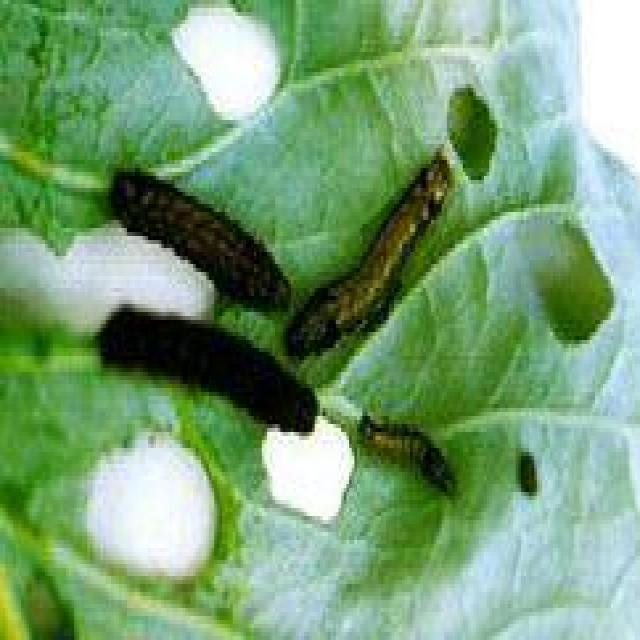armyworm: (95, 157, 477, 488), (111, 295, 337, 444), (106, 166, 300, 314)
